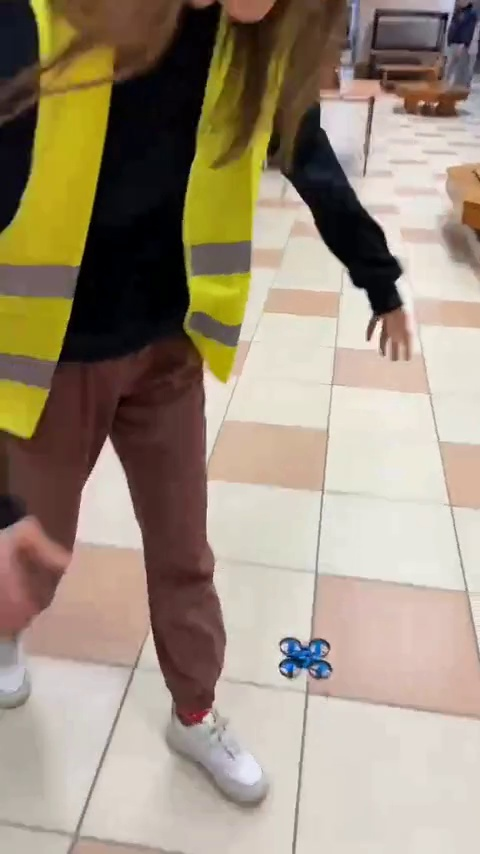drone: (282, 635, 334, 683)
vest: (0, 1, 280, 803)
